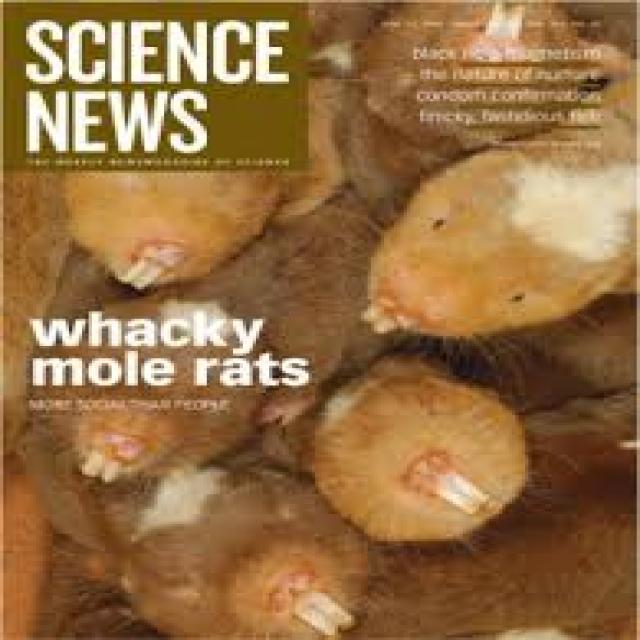rat: (16, 0, 634, 638)
